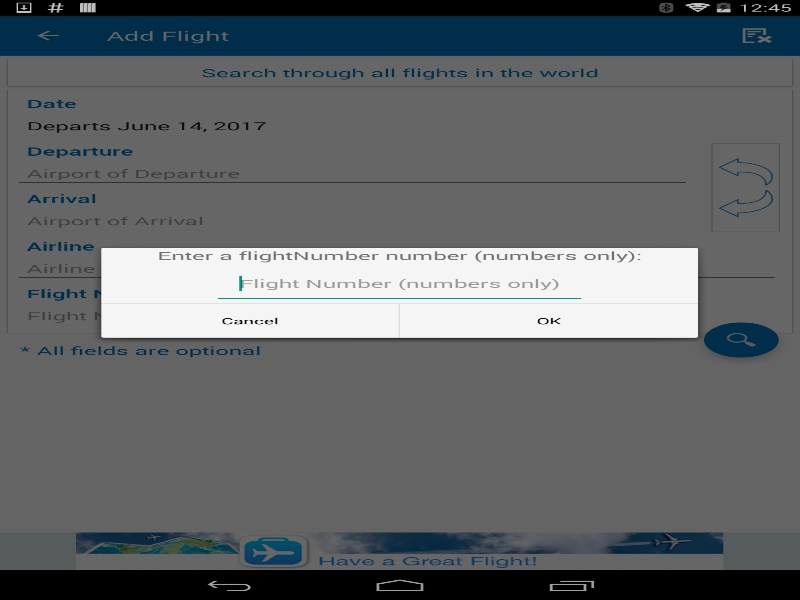Button: (400, 304, 698, 337), (101, 304, 398, 337)
Input: (212, 263, 586, 303)
